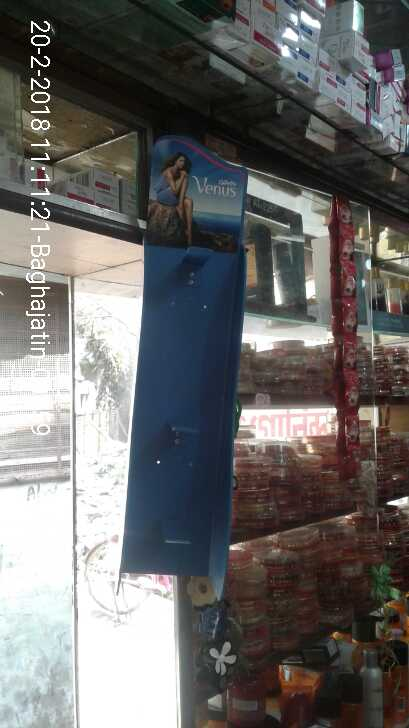reject: (11, 201, 230, 402)
